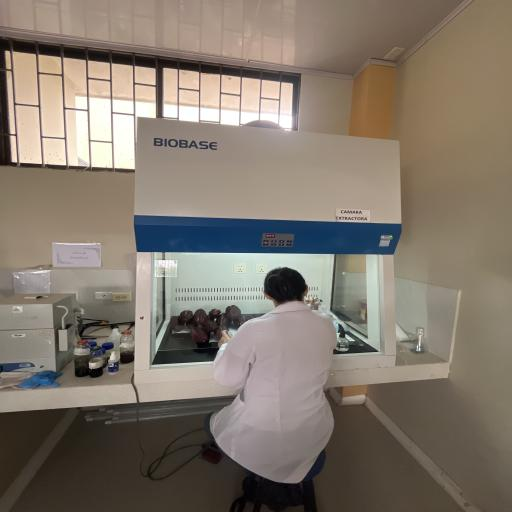Camara_Extractora_Biobase: (123, 109, 407, 393)
